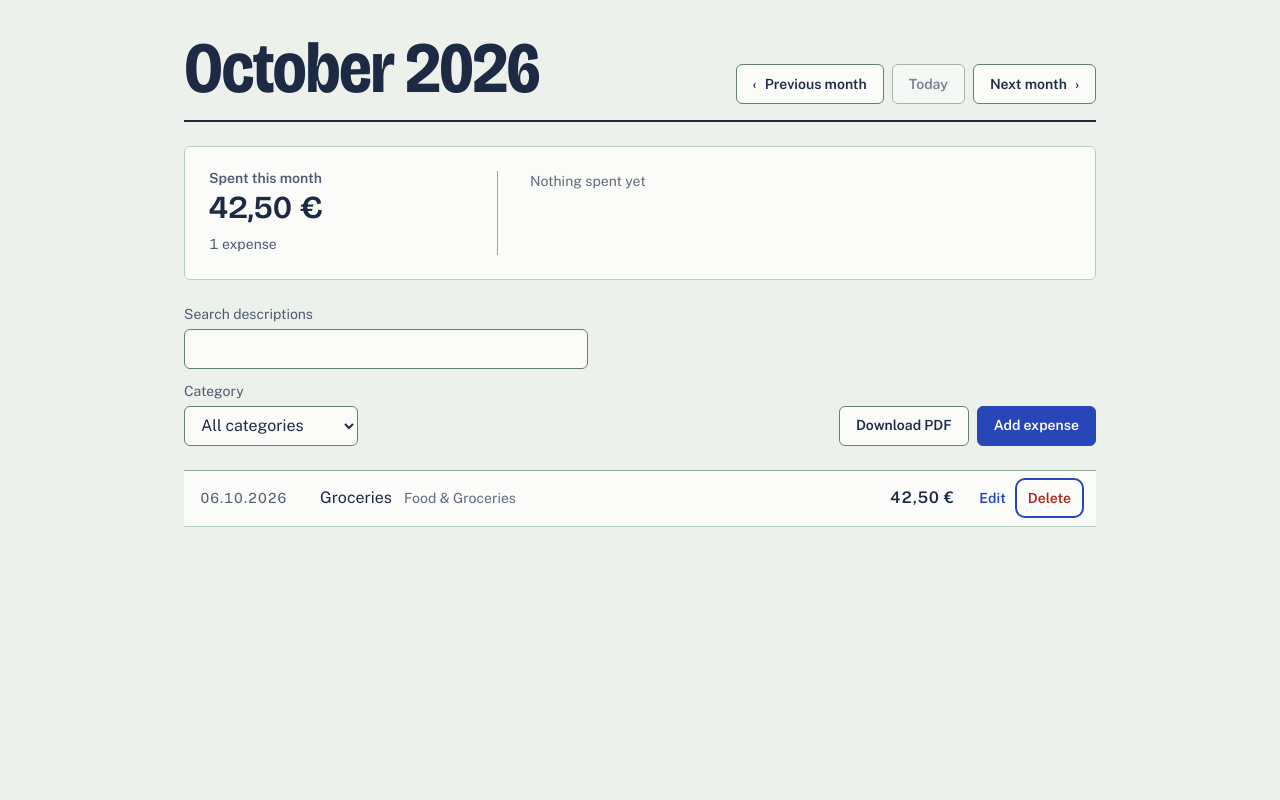
Test: moves focus to the Expenses section when the last row of the month is deleted
Expected: the text "Groceries" is shown, 320,486 -> 392,510
Click the button with aria-label "Delete Groceries". click: (1049, 498)
box: 1019,482 -> 1080,514
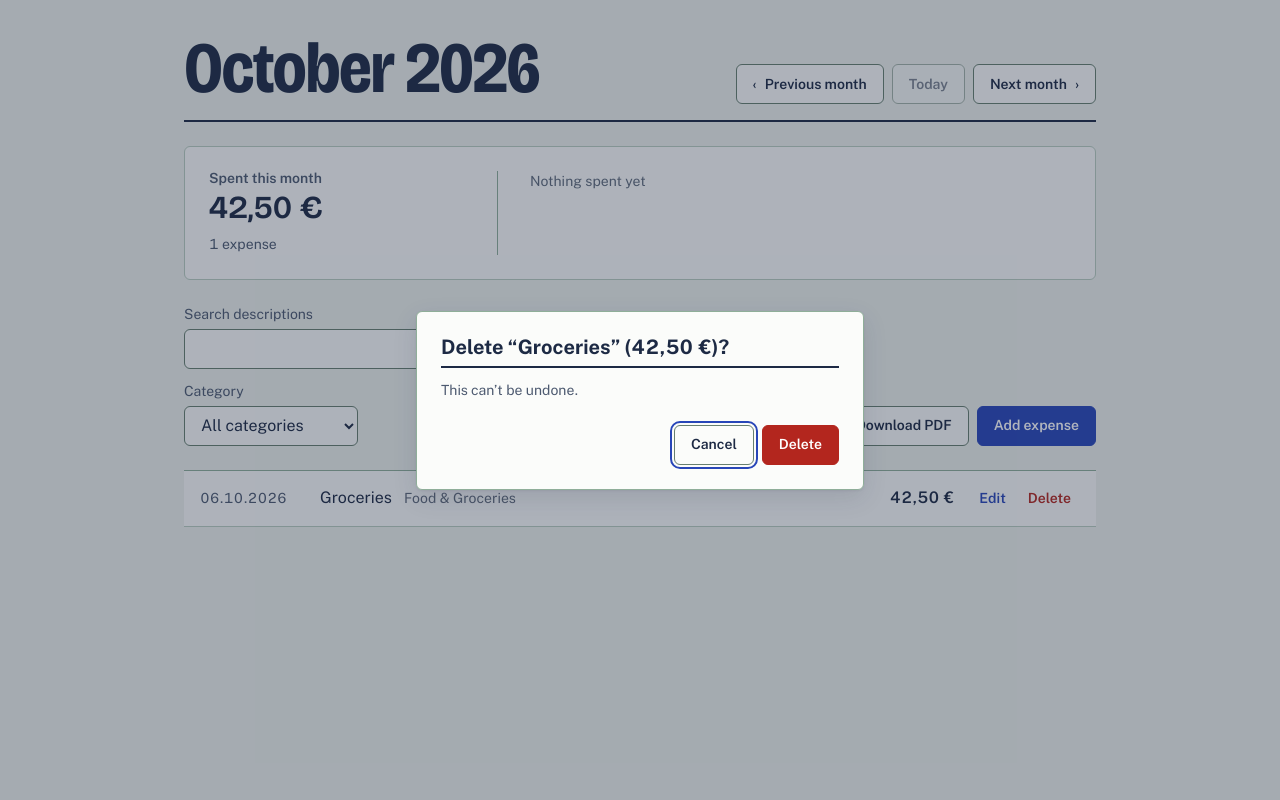
Click the button "Delete". click: (800, 444)
box: 762,424 -> 839,464
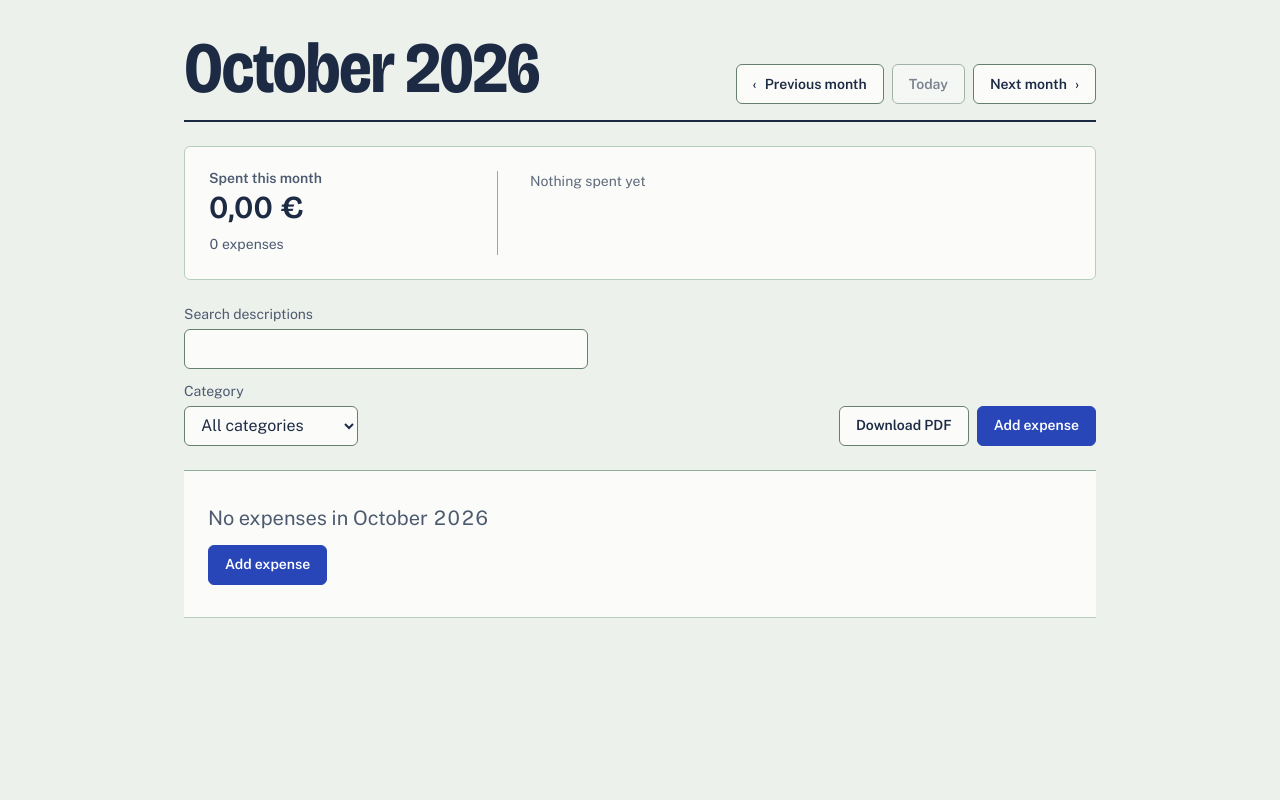
Expected: the text "No expenses in October 2026" is shown, 208,503 -> 489,533
